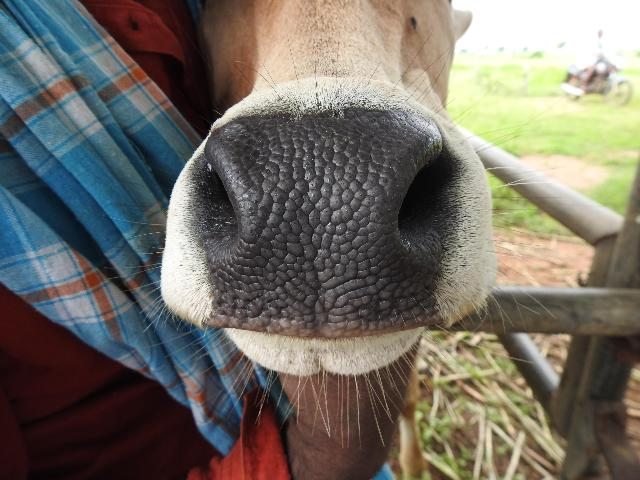Muzzle: (214, 126, 438, 312)
